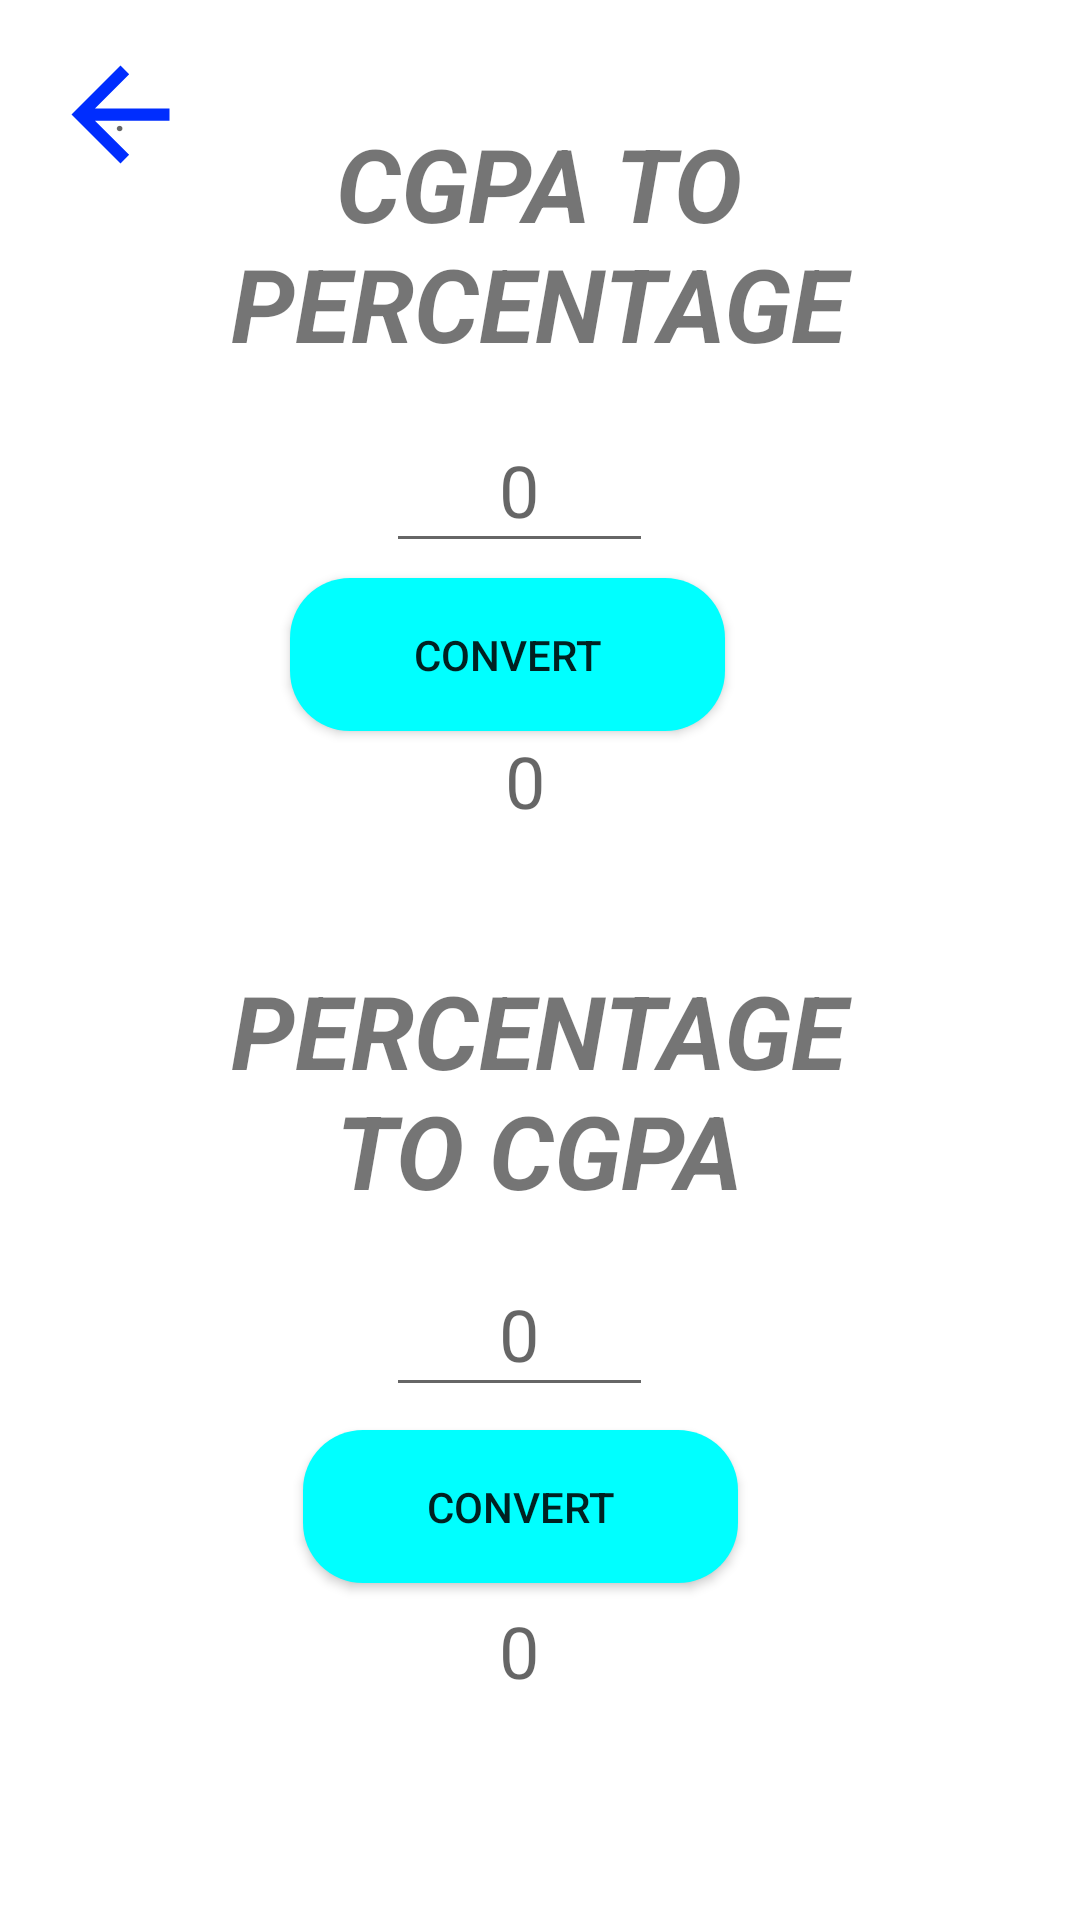

Icons on this 1080*1920 Android screen, each with the point to tap as (x=x, y=y):
arrow back: (x=120, y=114)
